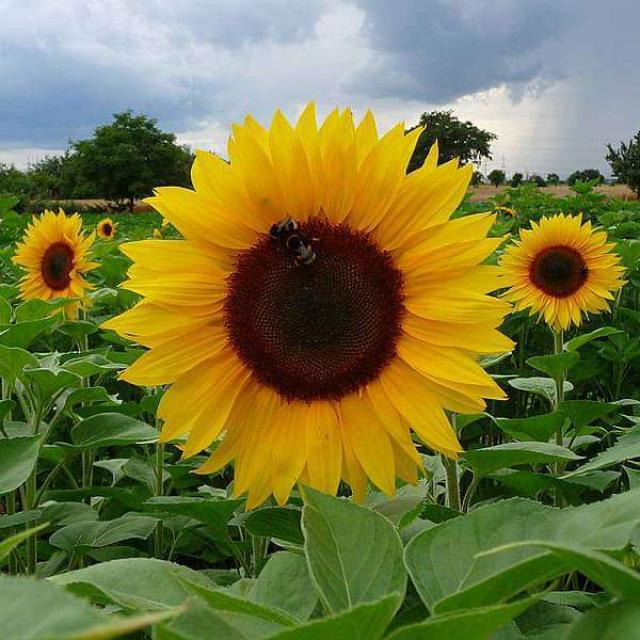sunflower: (100, 100, 518, 511), (496, 210, 626, 331), (10, 206, 101, 320), (490, 207, 516, 233), (96, 218, 115, 240)
